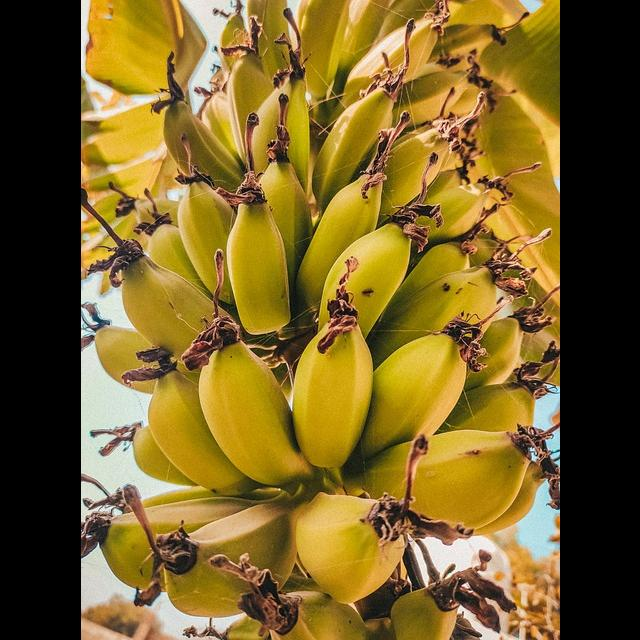apple: (155, 484, 325, 624), (187, 327, 312, 498), (337, 434, 542, 535), (104, 234, 253, 370), (314, 206, 421, 385), (366, 253, 538, 362), (361, 322, 482, 472), (128, 361, 253, 504), (399, 302, 544, 421), (354, 178, 505, 291), (392, 371, 547, 481), (289, 300, 376, 491), (103, 488, 274, 583), (142, 65, 264, 192), (279, 482, 404, 598), (400, 452, 560, 540), (349, 227, 487, 328), (332, 15, 453, 128), (222, 167, 294, 348), (318, 61, 398, 221), (217, 45, 300, 197), (368, 15, 521, 96), (253, 59, 327, 220), (172, 175, 266, 301), (133, 206, 235, 320), (364, 112, 475, 216), (88, 289, 187, 405), (114, 409, 230, 497), (356, 56, 492, 124), (125, 485, 289, 538), (252, 585, 382, 640), (293, 0, 355, 114), (386, 561, 468, 640), (206, 2, 269, 99), (247, 0, 291, 103)
